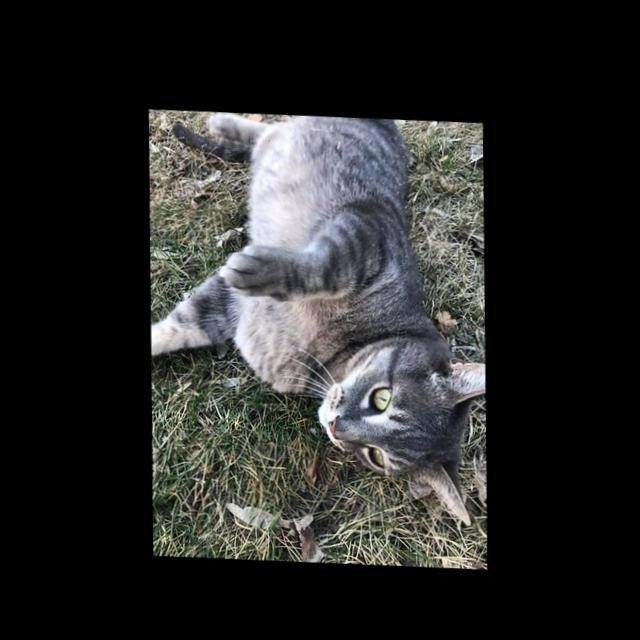animals: (146, 101, 489, 524)
